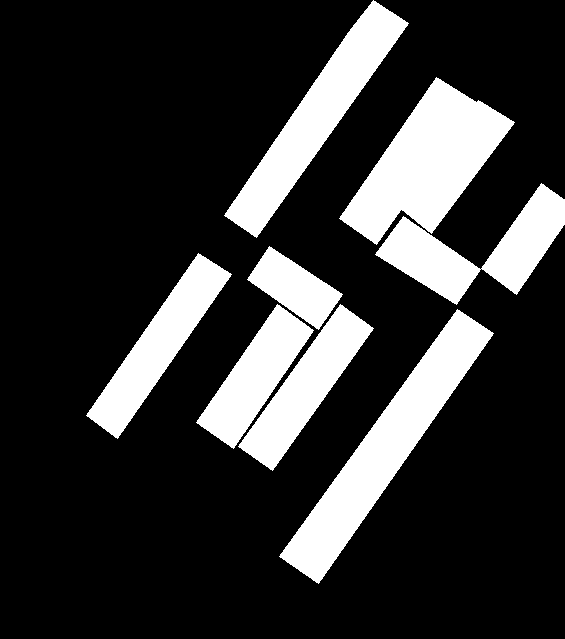parkingspot: (279, 309, 493, 583), (224, 0, 408, 237), (86, 253, 231, 438), (339, 77, 476, 244), (238, 304, 373, 470), (196, 304, 313, 448), (400, 100, 514, 233), (481, 183, 565, 294), (375, 216, 480, 304), (247, 246, 342, 329)
